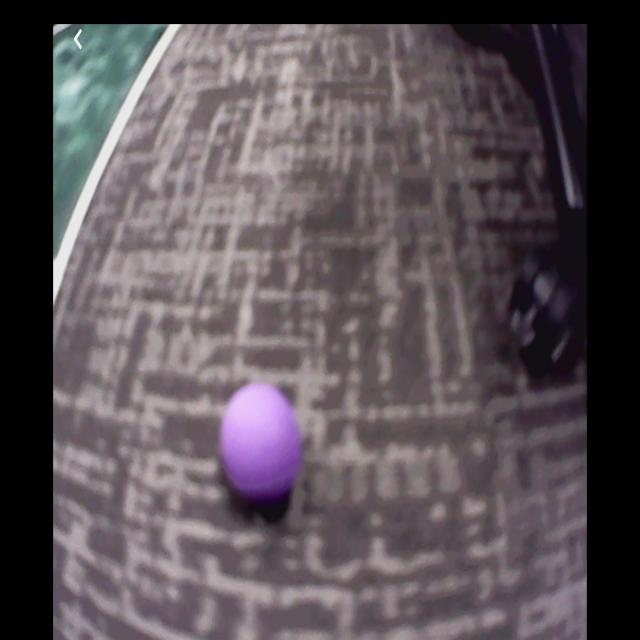ball: (220, 385, 300, 509)
